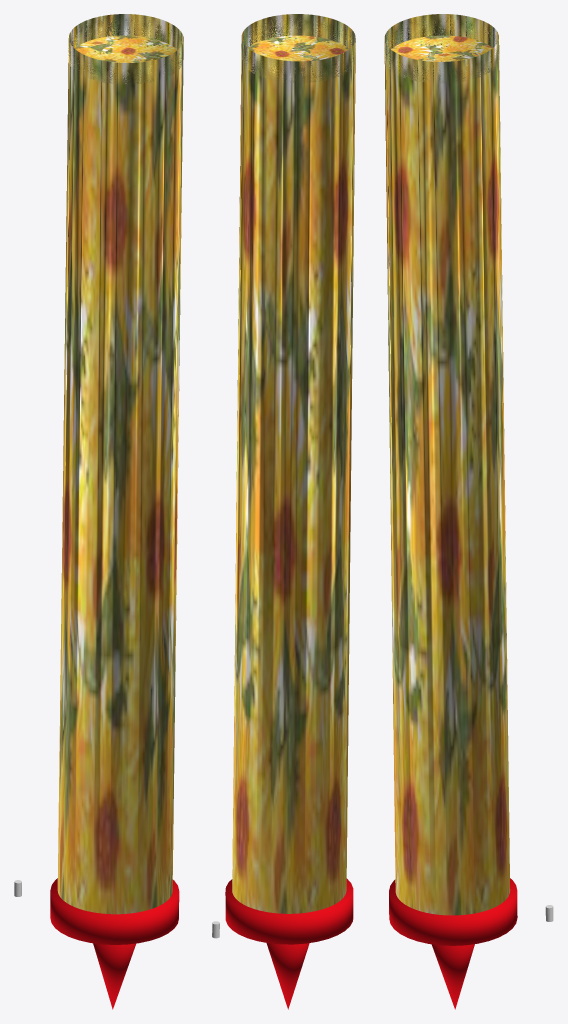
The model's file is sparkler2.glb.
3 views of the same model, side by side, from view 1: azimuth 90°, elevation 25°; view 2: azimuth 150°, elevation 25°; view 3: azimuth 270°, elevation 25° (orthographic).
Visible parts, largest first — view 1: Candle_Body, Candle_Collar, Candle_Tip; view 2: Candle_Body, Candle_Collar, Candle_Tip; view 3: Candle_Body, Candle_Collar, Candle_Tip.
Boxes of the visible parts, left/top/right/bottom form: Candle_Body: left=57, top=14, right=183, bottom=914; Candle_Collar: left=50, top=878, right=179, bottom=944; Candle_Tip: left=93, top=943, right=135, bottom=1009; Candle_Body: left=232, top=14, right=355, bottom=913; Candle_Collar: left=225, top=878, right=353, bottom=944; Candle_Tip: left=266, top=943, right=309, bottom=1009; Candle_Body: left=384, top=14, right=510, bottom=915; Candle_Collar: left=389, top=878, right=517, bottom=945; Candle_Tip: left=431, top=944, right=474, bottom=1009.
Size of the model in its own units: 0.1068 by 0.8899 by 0.1404.
3 materials, 1 textured.
